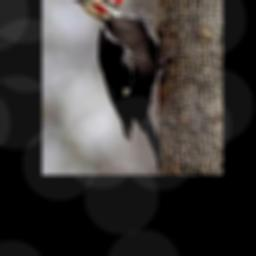Woodpecker: (71, 0, 182, 174)
